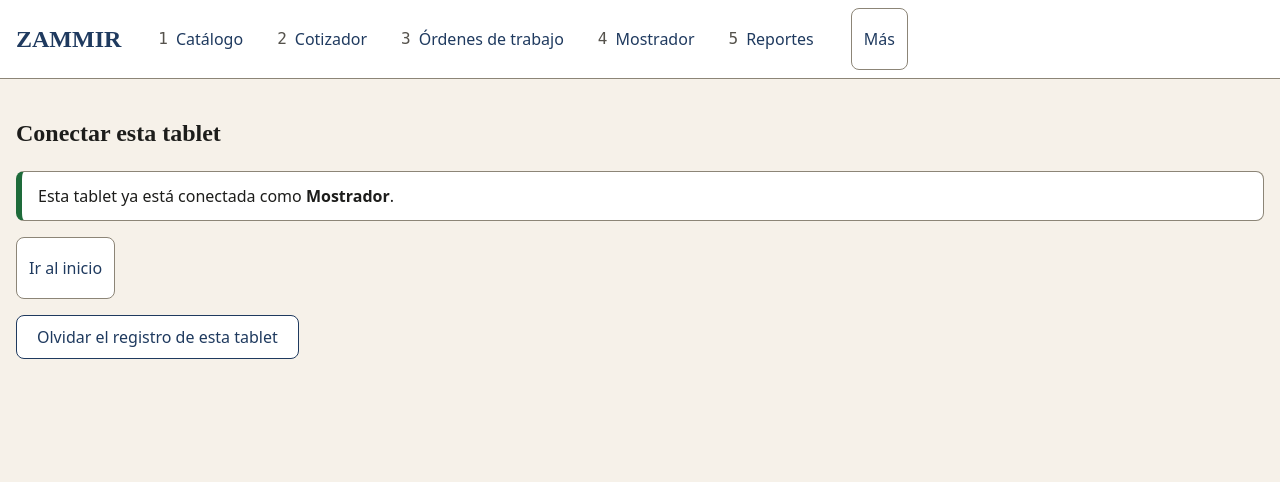
Test: pantalla Conectar esta tablet › una tablet ya conectada lo dice y permite olvidar el registro
Expected: the text "Esta tablet ya está conectada como Mostrador." is shown, [38,185,394,207]
Expected: the field labelled "Código de registro" is not shown
Click the button "Olvidar el registro de esta tablet" at (157, 337), box [16,315,299,359]
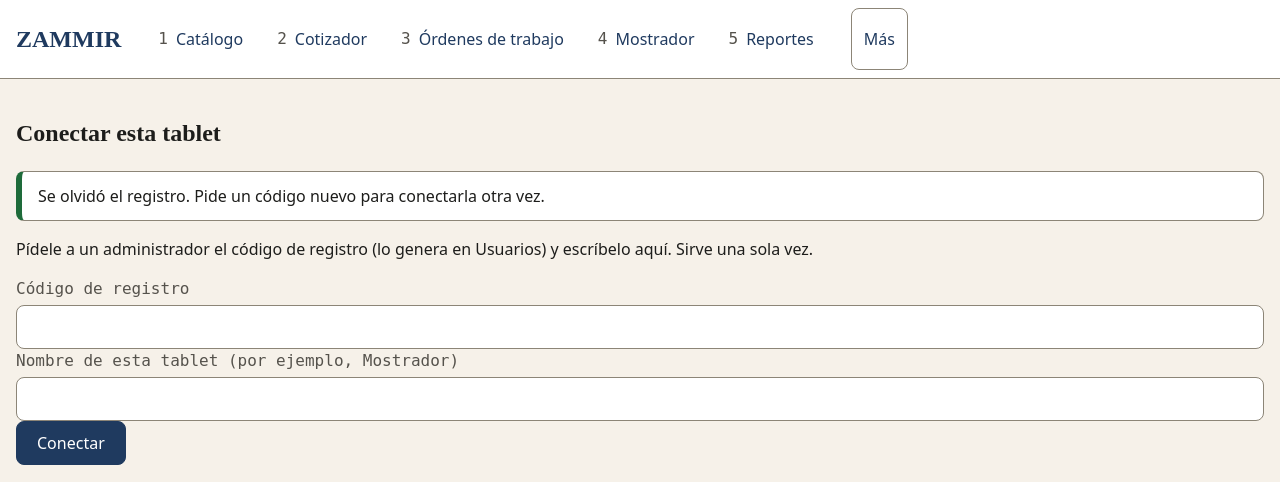
Expected: the text "Se olvidó el registro" is shown, [38,185,545,207]
Expected: the field labelled "Código de registro" is shown, [16,305,1264,349]
